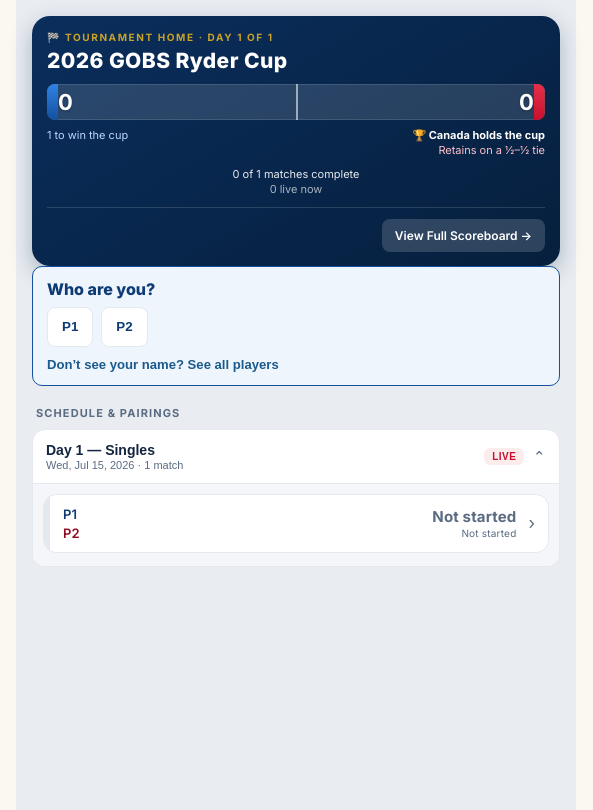
it: tournament landing › Fix 2: picking a league player NOT in the tournament shows 'ask the admin' and does not store
Click the button with test id "see-all-players".
click(163, 364)  # box [47, 357, 279, 372]
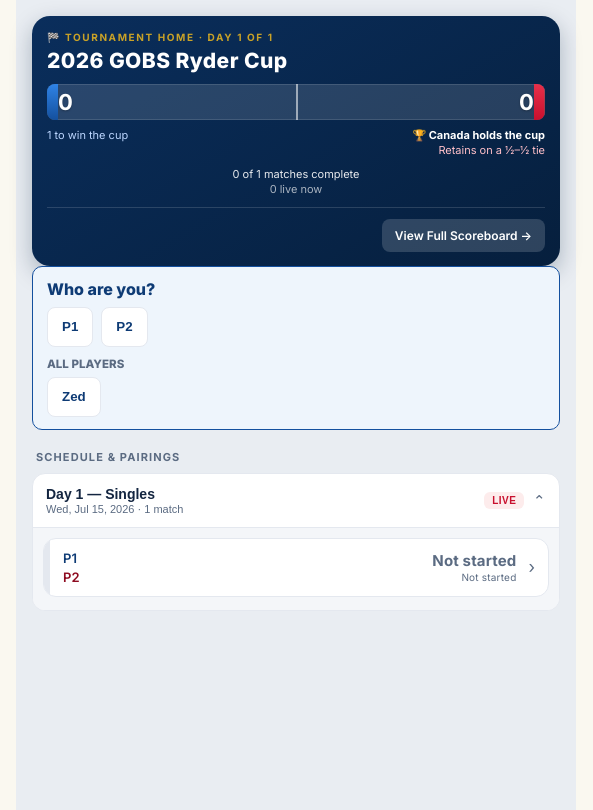
Click the button with test id "allplayers-8".
click(74, 397)  # box [47, 377, 101, 417]
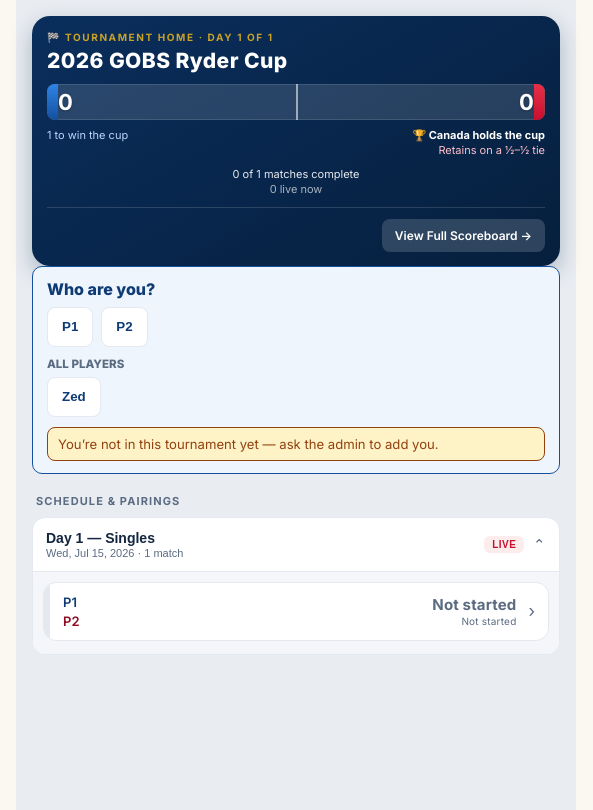
Expected: the text with test id "not-in-tournament" shows "ask the admin to add you", [58, 436, 439, 452]
